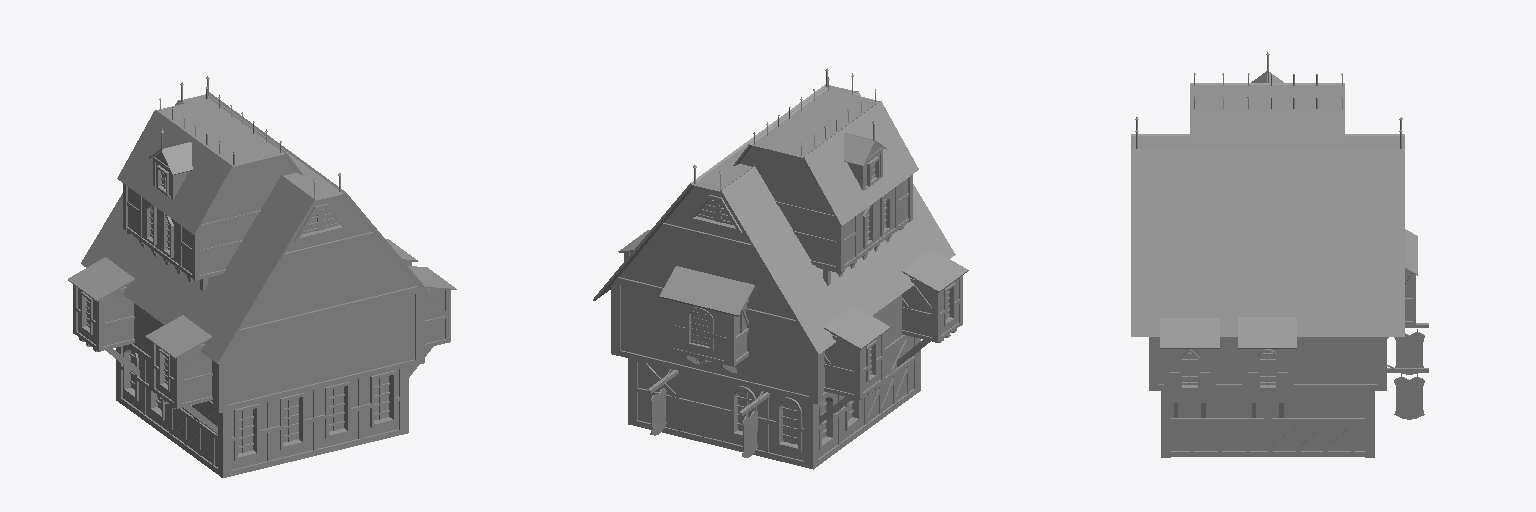
The model's file is house1.obj.
3 renders of one model, left to right at view 1: azimuth 30°, elevation 25°; view 2: azimuth 150°, elevation 25°; view 3: azimuth 270°, elevation 25°, orthographic.
Visible parts, largest first — view 1: node_304_013, node_304_015, node_304_009, node_304_011, node_304_017, node_304_018, node_304_014, node_304_004, node_304_016, node_304_019, node_304_008, node_304_005 (+5 smaller); view 2: node_304_015, node_304_013, node_304_009, node_304_021, node_304_018, node_304_017, node_304_011, node_304_014, node_304_019, node_304_008, node_304_004, node_304_016 (+8 smaller); view 3: node_304_015, node_304_009, node_304_018, node_304_013, node_304_016, node_304_014, node_304_004, node_304_012, node_304_017, Cube606_002, node_304_011, node_304_021 (+2 smaller).
Part boxes in pixels (x1,y1,x2,y2): node_304_013: (133, 237, 416, 404); node_304_015: (81, 94, 439, 362); node_304_009: (117, 96, 302, 235); node_304_011: (123, 345, 395, 464); node_304_017: (126, 204, 424, 413); node_304_018: (123, 346, 398, 469); node_304_014: (116, 346, 408, 477); node_304_004: (73, 261, 450, 433); node_304_016: (68, 239, 456, 358); node_304_019: (128, 155, 296, 272); node_304_008: (123, 157, 260, 290); node_304_005: (128, 152, 256, 274); node_304_015: (595, 85, 955, 353); node_304_013: (619, 228, 902, 395); node_304_009: (733, 87, 918, 226); node_304_021: (659, 266, 754, 373); node_304_018: (638, 337, 913, 460); node_304_017: (611, 195, 910, 404); node_304_011: (637, 337, 910, 452); node_304_014: (628, 337, 920, 469); node_304_019: (739, 147, 907, 264); node_304_008: (776, 148, 912, 285); node_304_004: (624, 252, 962, 423); node_304_016: (618, 230, 968, 349); node_304_015: (1131, 136, 1404, 336); node_304_009: (1190, 71, 1344, 143); node_304_018: (1171, 391, 1364, 450); node_304_013: (1159, 337, 1376, 383); node_304_016: (1160, 317, 1296, 348); node_304_014: (1161, 391, 1374, 457); node_304_004: (1164, 349, 1293, 417); node_304_012: (1170, 349, 1287, 395); node_304_017: (1149, 337, 1386, 390); Cube606_002: (1387, 365, 1428, 419); node_304_011: (1190, 400, 1354, 451); node_304_021: (1387, 229, 1417, 338).
Size of the model in its own units: 0.821 by 0.8698 by 0.7517.